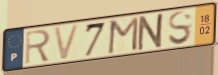7: (83, 21, 109, 58)
M: (106, 15, 141, 56)
N: (135, 11, 167, 53)
R: (23, 28, 52, 66)
S: (167, 9, 193, 47)
V: (52, 23, 82, 63)
